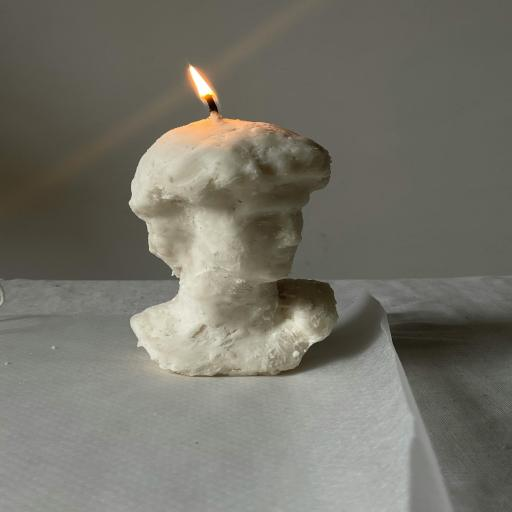candlelight: (122, 65, 342, 391)
